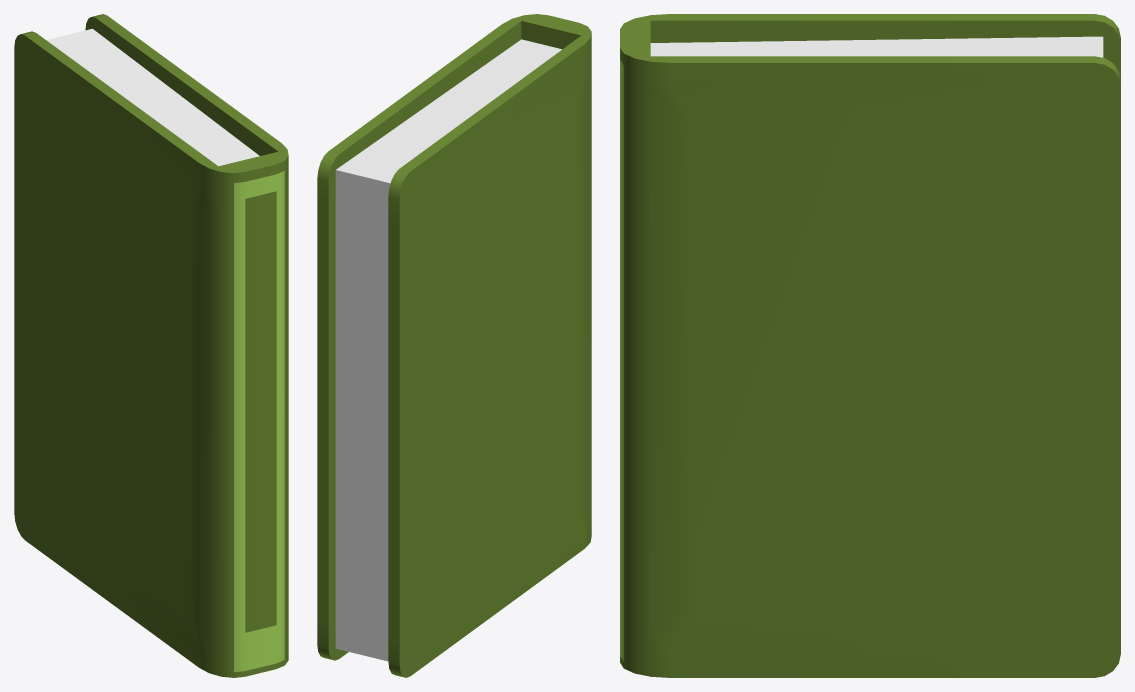
The model's file is Books_04.glb.
3 renders of one model, left to right at view 1: azimuth 30°, elevation 25°; view 2: azimuth 150°, elevation 25°; view 3: azimuth 270°, elevation 25°, orthographic. The views are drawn at different scales.
Visible parts, largest first — view 1: book_04; view 2: book_04; view 3: book_04.
Part boxes in pixels (box(x1,y1,x2,y2)): book_04: box(14, 14, 288, 677); book_04: box(317, 14, 591, 677); book_04: box(620, 14, 1120, 677).
Size of the model in its own units: 0.0451 by 0.2645 by 0.1952.
3 materials, 1 textured.
